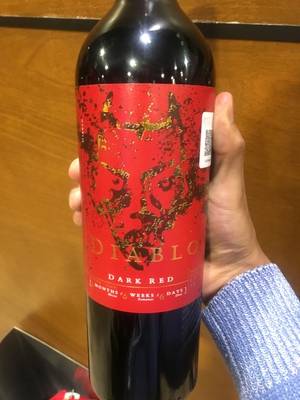diablo dark red: (75, 22, 223, 397)
